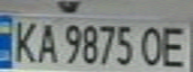5: (115, 21, 139, 68)
7: (97, 21, 118, 66)
8: (78, 20, 100, 65)
9: (60, 20, 84, 65)
A: (33, 19, 60, 64)
E: (157, 21, 193, 69)
K: (6, 17, 42, 64)
O: (136, 22, 169, 68)
